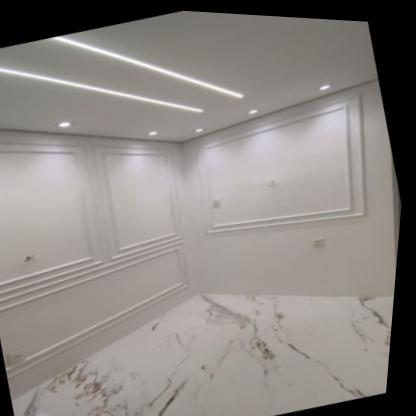Ceramic floor: (18, 290, 399, 416)
Futec frame: (0, 51, 403, 327)
